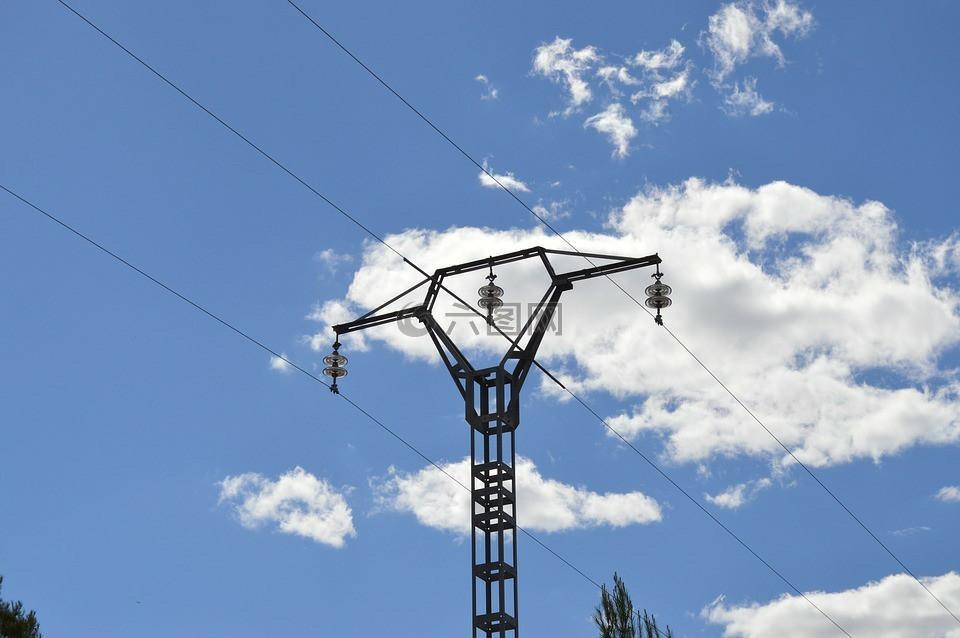power_tower: (320, 233, 683, 638)
